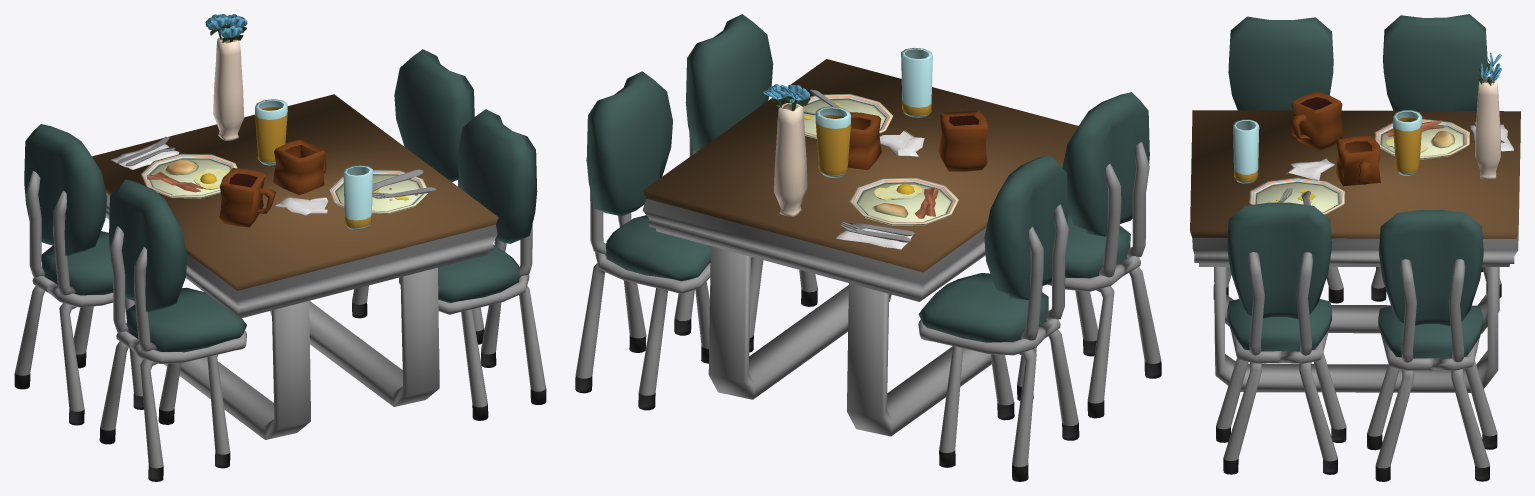
Rendered from MainTable.glb.
3 views of the same model, side by side, from view 1: azimuth 30°, elevation 25°; view 2: azimuth 150°, elevation 25°; view 3: azimuth 270°, elevation 25° (orthographic). The views are drawn at different scales.
Visible parts, largest first — view 1: Table.001, Chair.004, Chair, Chair.003, Chair.002, FlowerVase, CoffeeMug.002, CoffeeMug.001, FullPlate, MessyPlate, FinishedOJ, FullOJ (+2 smaller); view 2: Table.001, Chair, Chair.002, Chair.004, Chair.003, FlowerVase, FullPlate, CoffeeMug.002, FullOJ, FinishedOJ, CoffeeMug.001, MessyPlate (+3 smaller); view 3: Table.001, Chair.002, Chair.003, Chair, Chair.004, CoffeeMug.002, FlowerVase, MessyPlate, CoffeeMug.001, FullOJ, FinishedOJ, FullPlate (+1 smaller).
Part boxes in pixels (<box>): Table.001: <box>92,94,498,439</box>; Chair.004: <box>99,179,246,481</box>; Chair: <box>14,124,143,425</box>; Chair.003: <box>399,109,546,420</box>; Chair.002: <box>352,49,484,344</box>; FlowerVase: <box>213,36,244,141</box>; CoffeeMug.002: <box>219,168,275,227</box>; CoffeeMug.001: <box>273,139,326,195</box>; FullPlate: <box>141,153,237,198</box>; MessyPlate: <box>328,169,427,214</box>; FinishedOJ: <box>343,165,372,229</box>; FullOJ: <box>255,99,287,165</box>; Table.001: <box>642,59,1078,436</box>; Chair: <box>918,155,1079,481</box>; Chair.002: <box>575,71,710,410</box>; Chair.004: <box>1017,92,1161,418</box>; Chair.003: <box>674,14,817,352</box>; FlowerVase: <box>774,102,807,216</box>; FullPlate: <box>849,177,958,225</box>; CoffeeMug.002: <box>938,111,988,171</box>; FullOJ: <box>815,106,850,177</box>; FinishedOJ: <box>901,48,932,117</box>; CoffeeMug.001: <box>847,112,881,169</box>; MessyPlate: <box>803,93,892,138</box>; Table.001: <box>1190,110,1520,392</box>; Chair.002: <box>1367,209,1497,481</box>; Chair.003: <box>1216,202,1346,474</box>; Chair: <box>1371,14,1501,301</box>; Chair.004: <box>1213,16,1343,303</box>; CoffeeMug.002: <box>1291,91,1344,150</box>; FlowerVase: <box>1475,76,1500,179</box>; MessyPlate: <box>1249,177,1344,214</box>; CoffeeMug.001: <box>1336,136,1380,186</box>; FullOJ: <box>1393,110,1422,175</box>; FinishedOJ: <box>1233,119,1259,183</box>; FullPlate: <box>1374,118,1469,159</box>.
Bounding box in the file's own units: 9.17 × 6.95 × 6.35.
20 materials, 5 textured.
